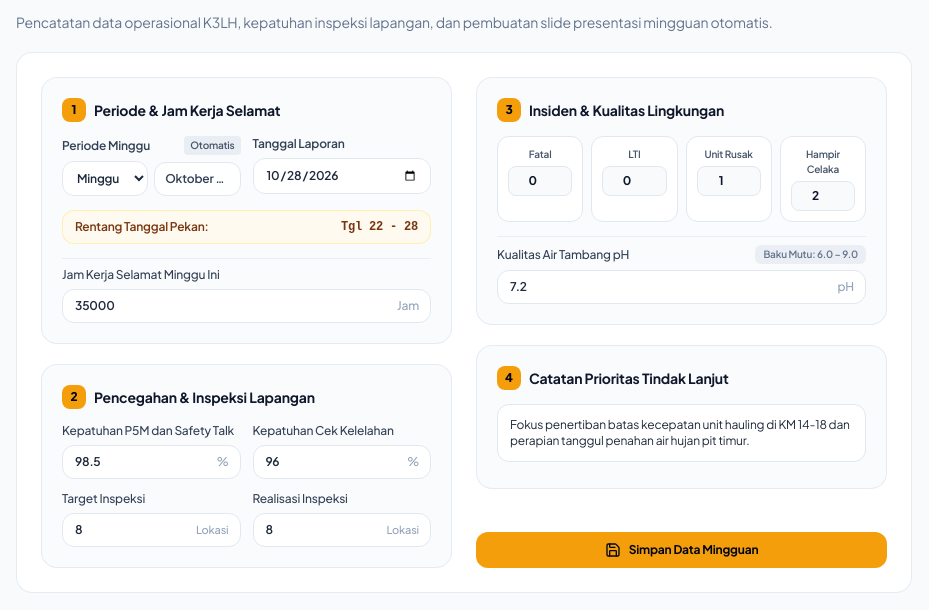
Scenario: SHE Weekly & Monthly Entry Forms › automatically calculates week of month and updates month when report date changes
// Ubah tanggal ke 5 November 2026 (Minggu 1)
In the date field labelled "Tanggal Laporan": (342, 176) [252, 158, 431, 194], type "2026-11-05"
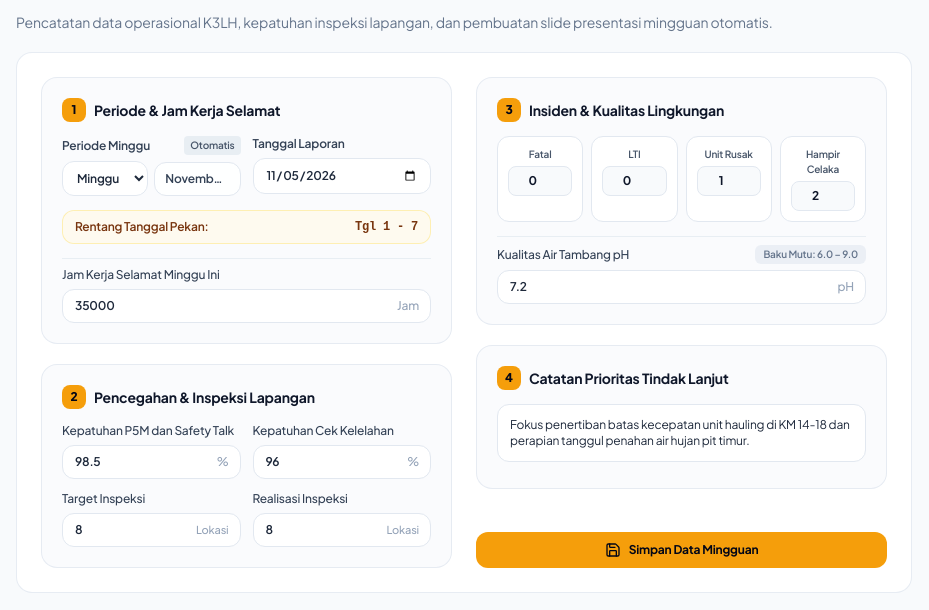
Expected: the dropdown labelled "Periode Minggu" shows "Minggu 1", [62, 161, 148, 196]
Expected: the text "November 2026" is shown, [154, 162, 241, 196]
// Ubah tanggal ke 27 Oktober 2026 (Minggu 4)
In the date field labelled "Tanggal Laporan": (342, 176) [252, 158, 431, 194], type "2026-10-27"
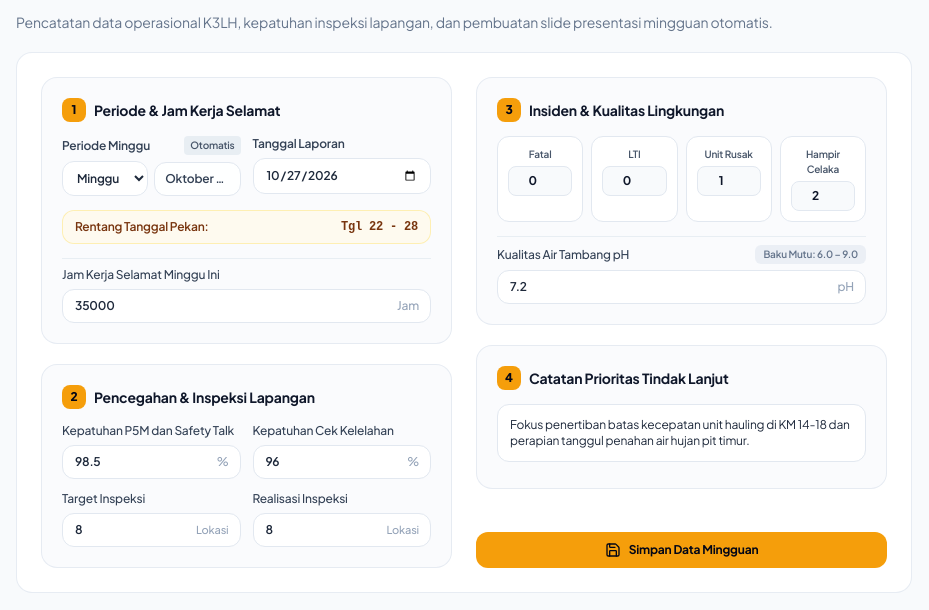
Expected: the dropdown labelled "Periode Minggu" shows "Minggu 4", [62, 161, 148, 196]
Expected: the text "Oktober 2026" is shown, [154, 162, 241, 196]
